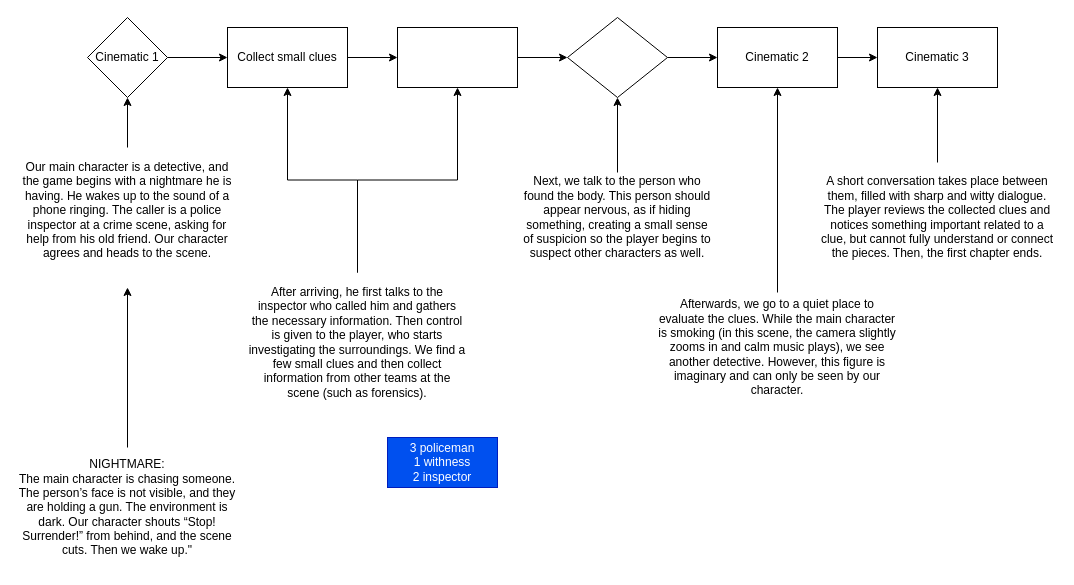
Some shapes in this 1074 by 585 pixel diagram are drawn without their labels. Here are the shapes that lost their labels. From the top down, the centre of each, then its label:
At (457,57): "Talk to npc Police to get hint".
At (617,57): "Talk to the Witness npc".
